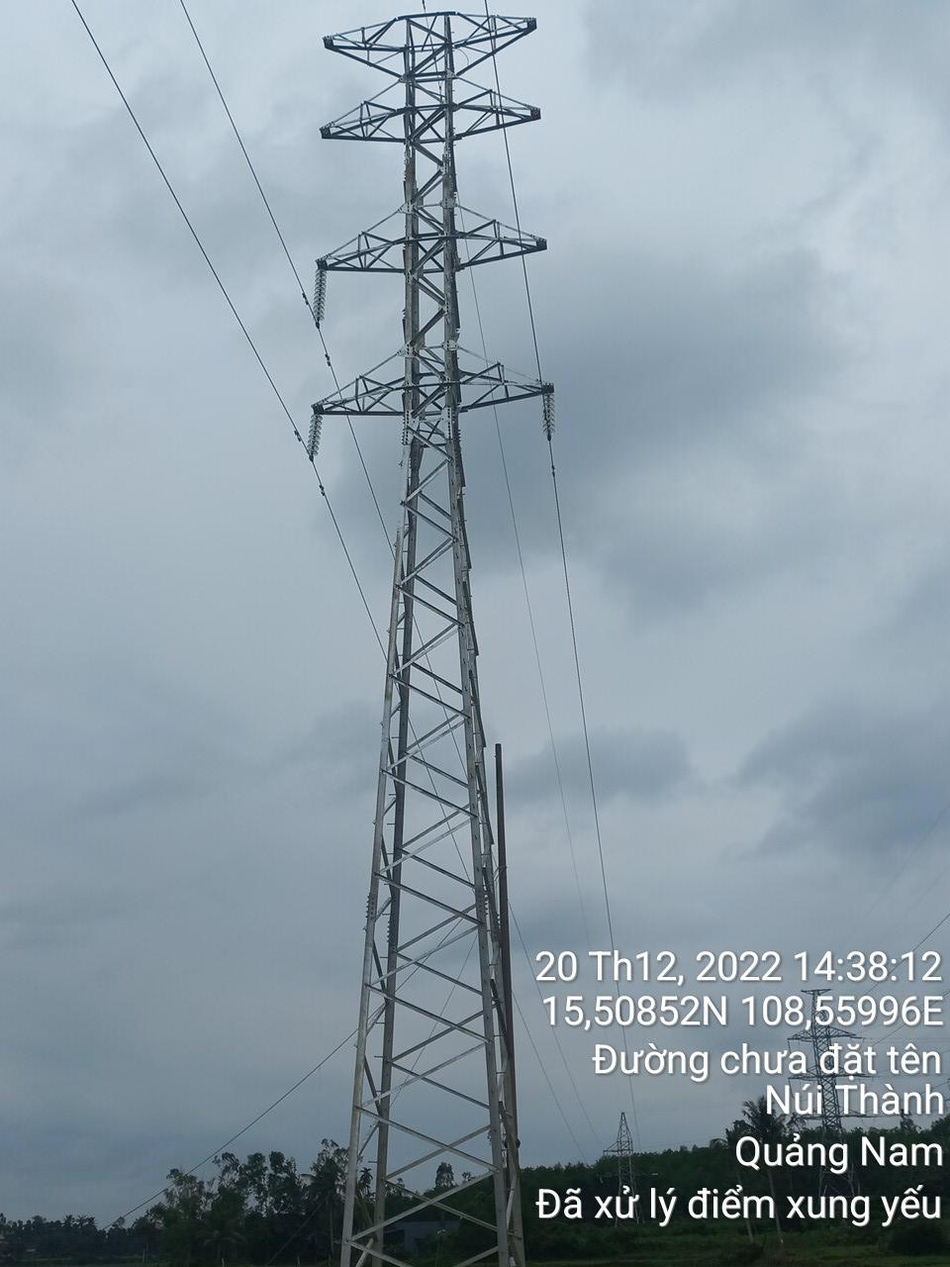power_tower: (317, 0, 554, 1267)
